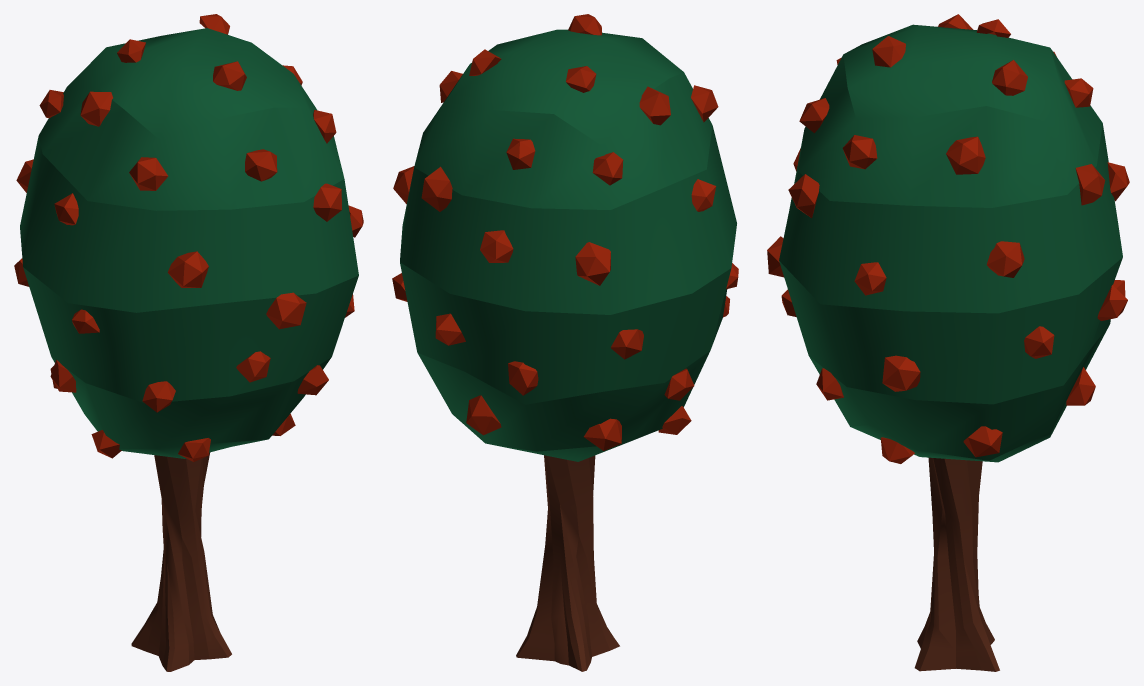
Rendered from Tree_2_High_WF.fbx.
3 renders of one model, left to right at view 1: azimuth 30°, elevation 25°; view 2: azimuth 150°, elevation 25°; view 3: azimuth 270°, elevation 25°, orthographic. The views are drawn at different scales.
Parts seen in each view (by area): view 1: Tree_2_High_WF; view 2: Tree_2_High_WF; view 3: Tree_2_High_WF.
Boxes of the visible parts, left/top/right/bottom form: Tree_2_High_WF: left=14, top=14, right=363, bottom=671; Tree_2_High_WF: left=392, top=14, right=738, bottom=671; Tree_2_High_WF: left=767, top=14, right=1129, bottom=671.
Bounding box in the file's own units: 102 × 205 × 108.
